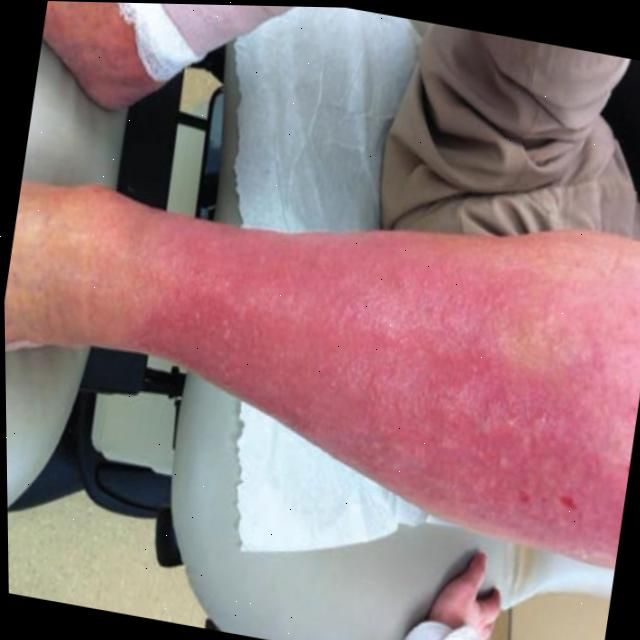Eczema: (85, 169, 640, 558)
